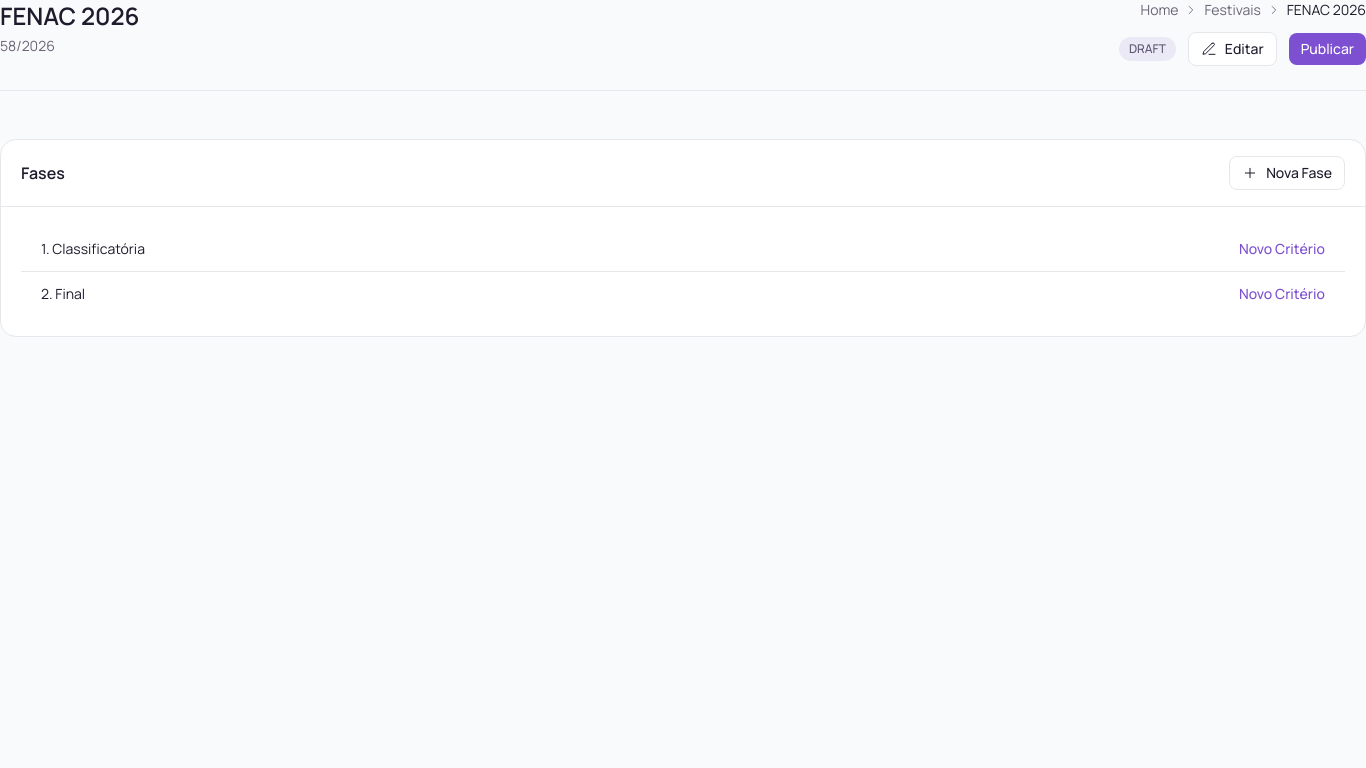
Scenario: FestivalDetail › opens the Novo Critério modal for the clicked stage
Expected: the heading "FENAC 2026" is shown, 0,0 -> 139,32
Click the button "Novo Critério" in the row of "Final": click(1282, 294) 1239,284 -> 1325,304
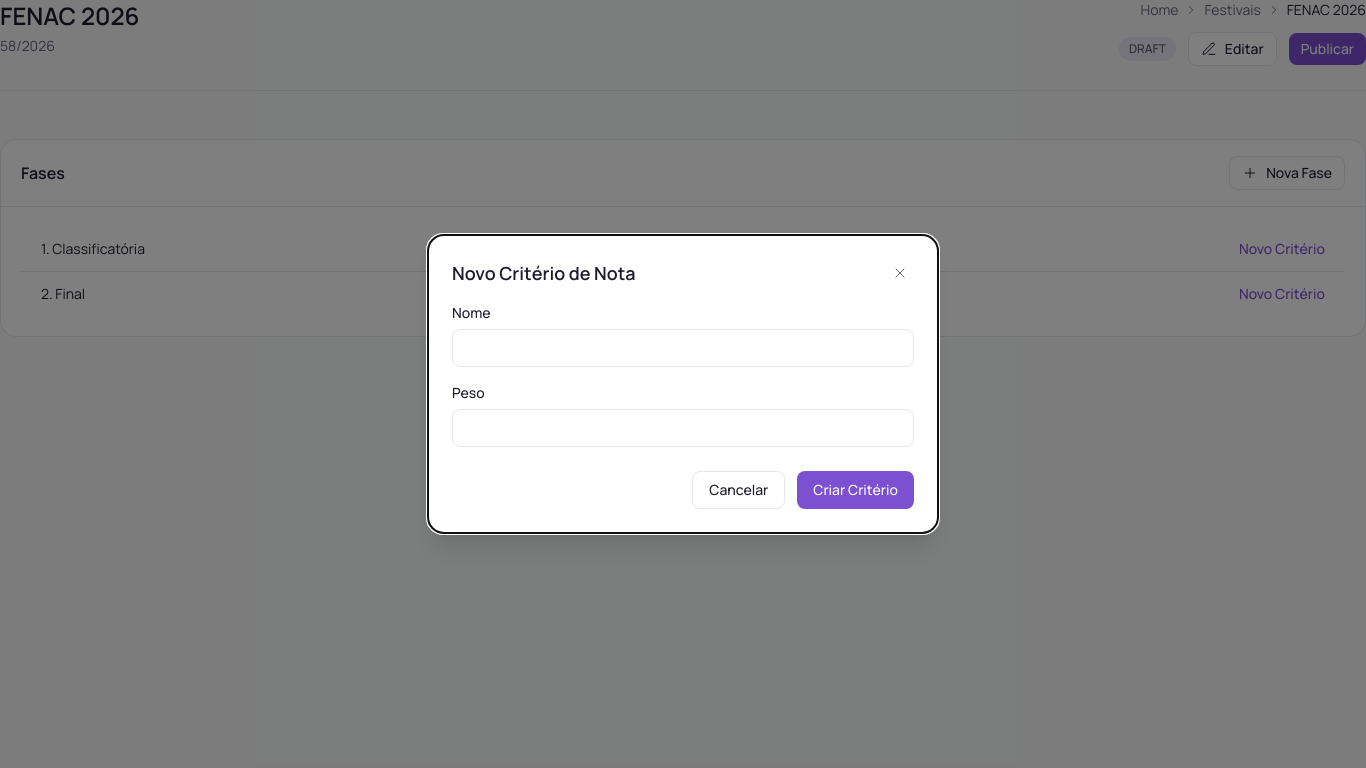
Result: the dialog "Novo Critério de Nota" is shown at 427,234 -> 939,534
